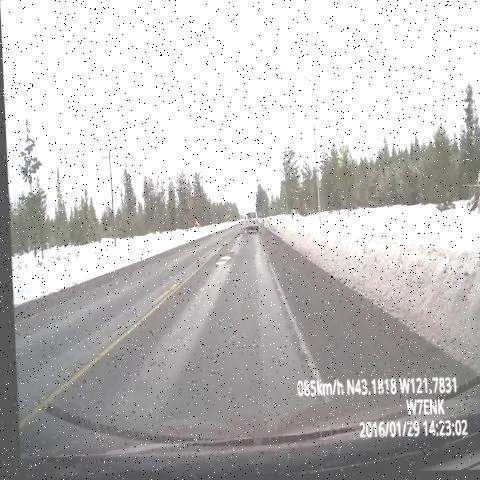pothole: (211, 245, 234, 277), (230, 227, 246, 251)
